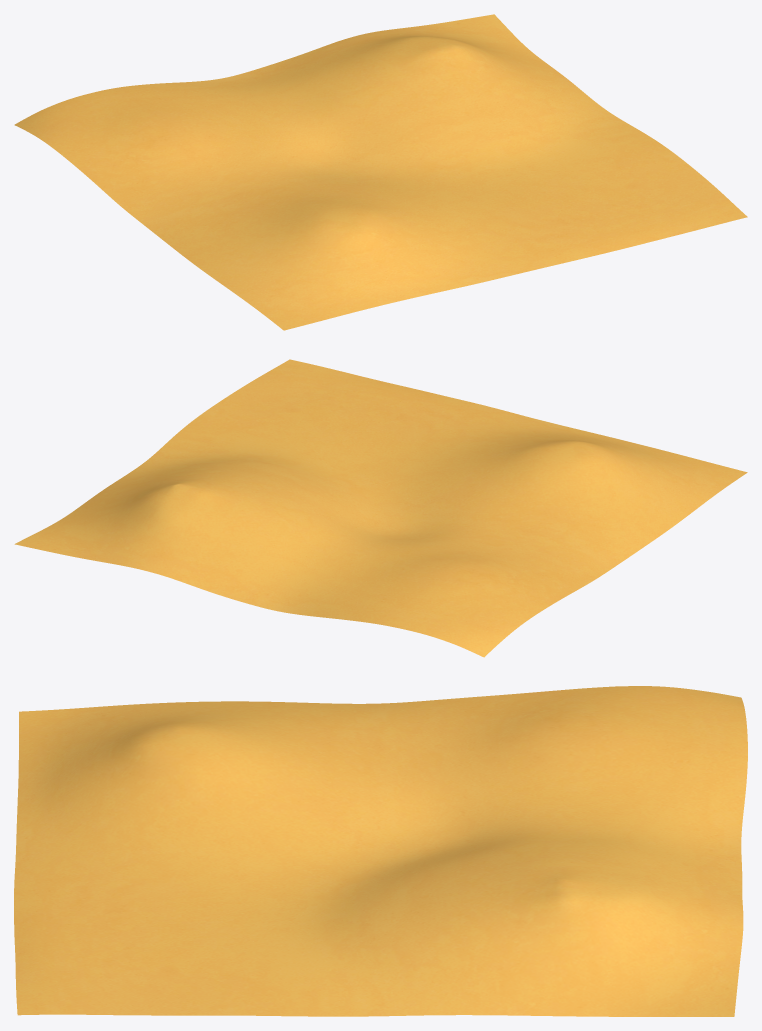
The model's file is GroundPlan 512bit.fbx.
3 renders of one model, top to bottom at view 1: azimuth 30°, elevation 25°; view 2: azimuth 150°, elevation 25°; view 3: azimuth 270°, elevation 25°, orthographic. The views are drawn at different scales.
Parts seen in each view (by area): view 1: Plane; view 2: Plane; view 3: Plane.
Part boxes in pixels (x1,y1,x2,y2): Plane: (14,14,747,330); Plane: (14,359,747,657); Plane: (14,686,747,1016).
Size of the model in its own units: 10385 by 932 by 10189.
Materials: 1 (1 with a texture image).
